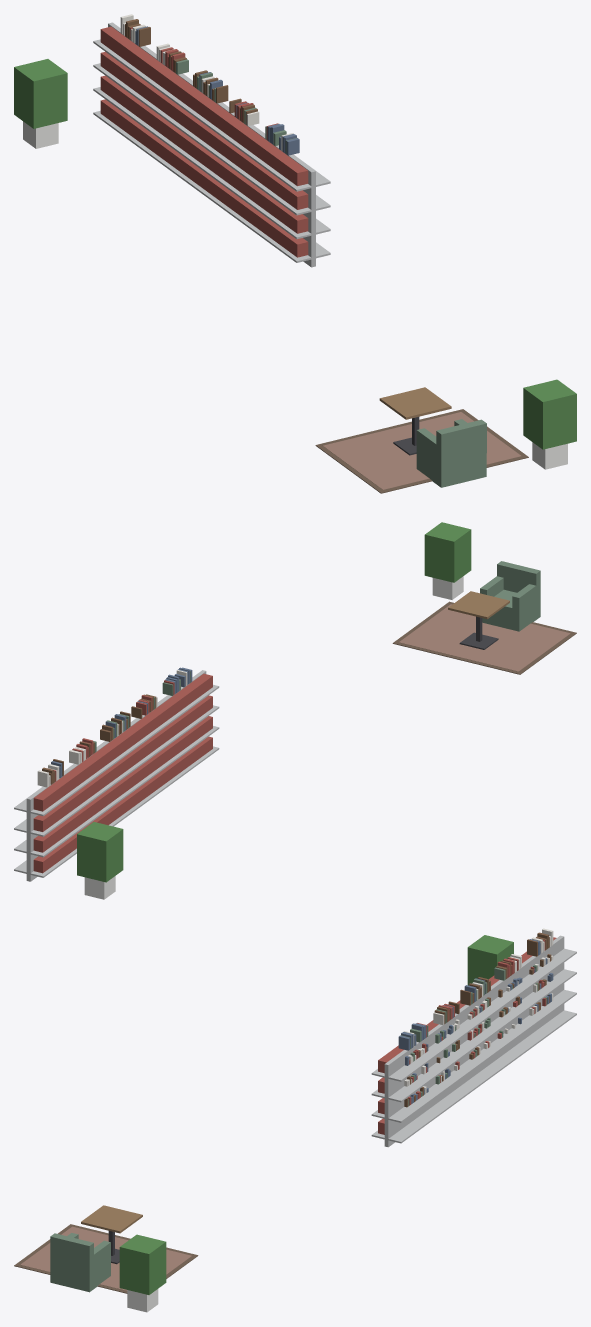
Rendered from fine-s2.glb.
3 renders of one model, top to bottom at view 1: azimuth 30°, elevation 25°; view 2: azimuth 150°, elevation 25°; view 3: azimuth 330°, elevation 25°, orthographic. The views are drawn at different scales.
Visible parts, largest first — view 1: soft-s2, shelving.009, shelving.005, shelving.008, shelving.006, shelving.007, plant-medium.002, plant-medium.003, sofa.001, coffee-table.001; view 2: soft-s2, shelving.005, shelving.009, shelving.007, shelving.006, shelving.008, plant-medium.002, plant-medium.003, sofa.001, coffee-table.001; view 3: soft-s2, shelving.009, shelving.005, shelving.008, plant-medium.002, shelving.006, sofa.001, shelving.007, plant-medium.003, coffee-table.001.
Part boxes in pixels (<box>): soft-s2: <box>120,14,528,493</box>; shelving.009: <box>237,128,330,267</box>; shelving.005: <box>93,22,185,156</box>; shelving.008: <box>202,103,271,235</box>; shelving.006: <box>129,50,199,183</box>; shelving.007: <box>165,76,258,209</box>; plant-medium.002: <box>523,379,576,469</box>; plant-medium.003: <box>14,59,67,148</box>; sofa.001: <box>416,419,486,487</box>; coffee-table.001: <box>379,387,451,455</box>; soft-s2: <box>37,601,576,787</box>; shelving.005: <box>14,763,94,881</box>; shelving.009: <box>157,670,219,781</box>; shelving.007: <box>97,717,156,824</box>; shelving.006: <box>62,740,125,853</box>; shelving.008: <box>124,694,187,808</box>; plant-medium.002: <box>424,522,471,599</box>; plant-medium.003: <box>77,822,123,899</box>; sofa.001: <box>480,561,540,631</box>; coffee-table.001: <box>448,591,509,649</box>; soft-s2: <box>14,928,553,1293</box>; shelving.009: <box>371,1027,452,1147</box>; shelving.005: <box>513,935,576,1051</box>; shelving.008: <box>419,1005,482,1120</box>; plant-medium.002: <box>119,1234,166,1312</box>; shelving.006: <box>482,958,545,1074</box>; sofa.001: <box>50,1233,110,1292</box>; shelving.007: <box>451,982,514,1096</box>; plant-medium.003: <box>467,935,513,985</box>; coffee-table.001: <box>81,1205,142,1264</box>.
Bounding box in the file's own units: 3.5 × 1.93 × 14.5.
